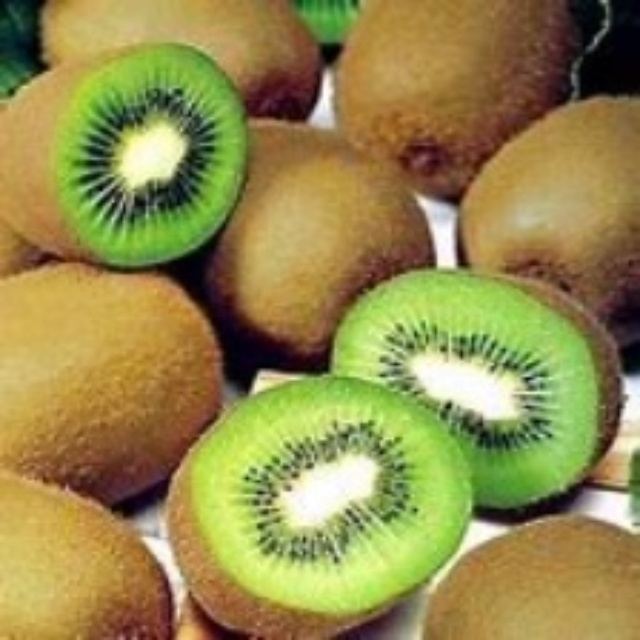kiwi: (144, 374, 473, 627), (331, 270, 618, 521), (199, 116, 435, 353), (2, 270, 223, 508), (9, 53, 250, 268), (328, 6, 570, 202), (462, 80, 639, 327)
